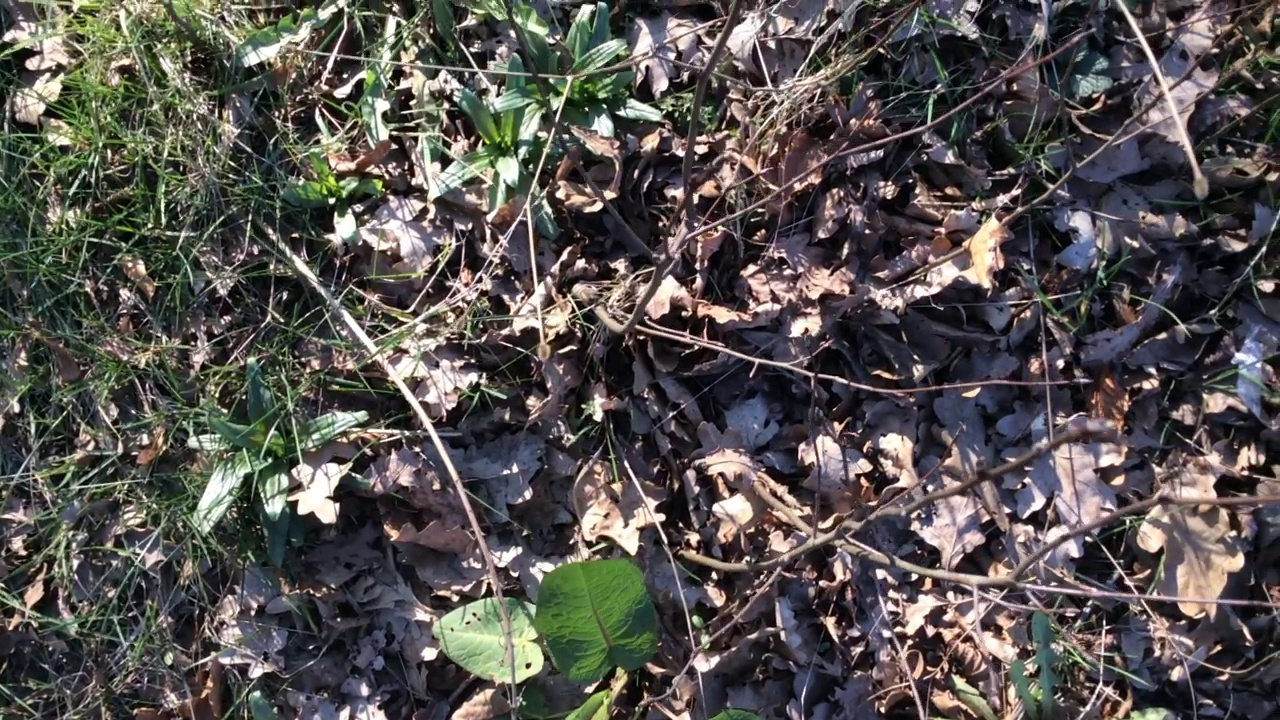rumex: (431, 560, 760, 720)
